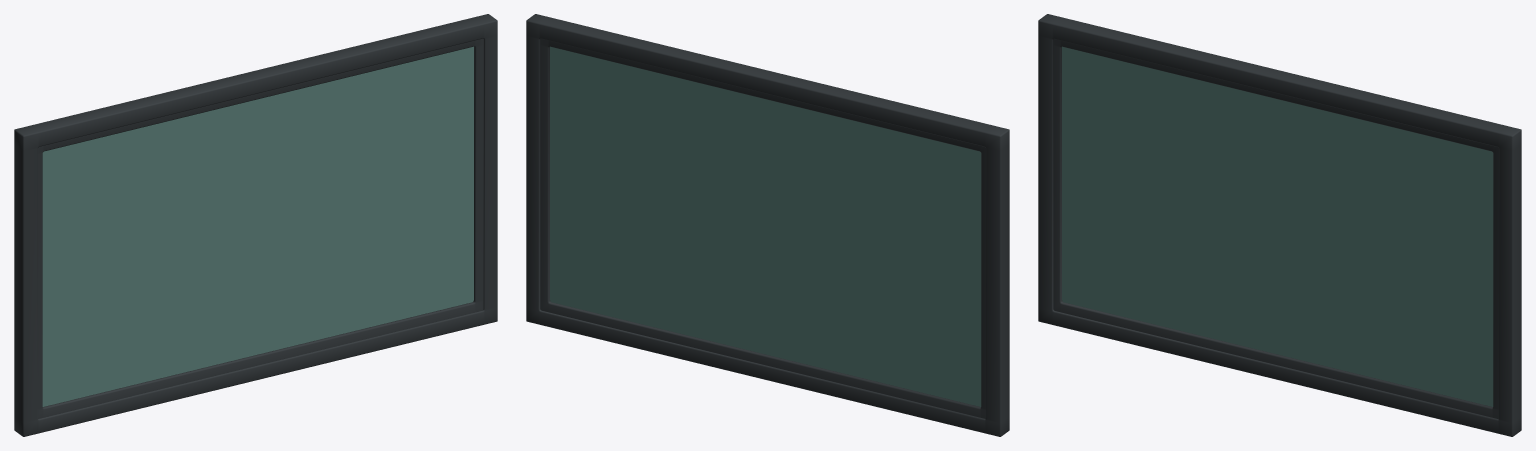
File: SM_Window2.FBX
3 renders of one model, left to right at view 1: azimuth 30°, elevation 25°; view 2: azimuth 150°, elevation 25°; view 3: azimuth 330°, elevation 25°, orthographic.
Parts seen in each view (by area): view 1: SM_Window2_LOD0; view 2: SM_Window2_LOD0; view 3: SM_Window2_LOD0.
Part boxes in pixels (x1,y1,x2,y2): SM_Window2_LOD0: (14, 14, 497, 436); SM_Window2_LOD0: (526, 14, 1009, 436); SM_Window2_LOD0: (1038, 14, 1521, 436).
Size of what is drawn, in the model's own units: 201 by 7.08 by 122.
